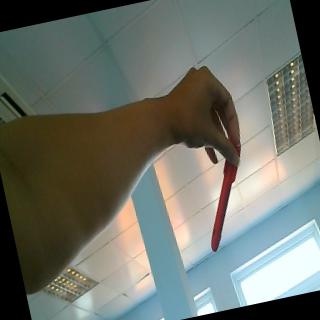Rocket: (193, 162, 254, 252)
